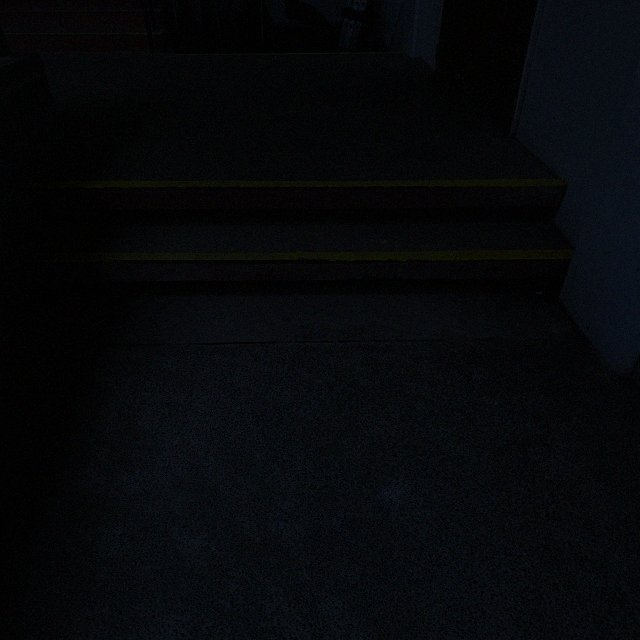stair: (17, 178, 579, 344)
